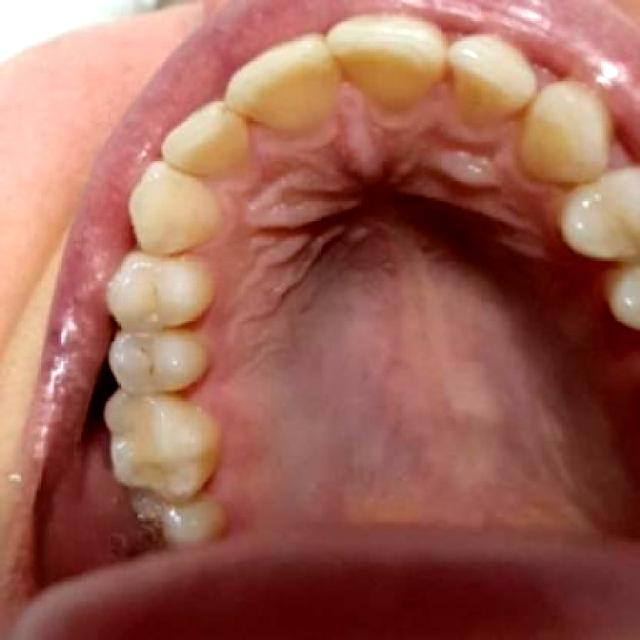Plaque: (124, 327, 170, 389)
